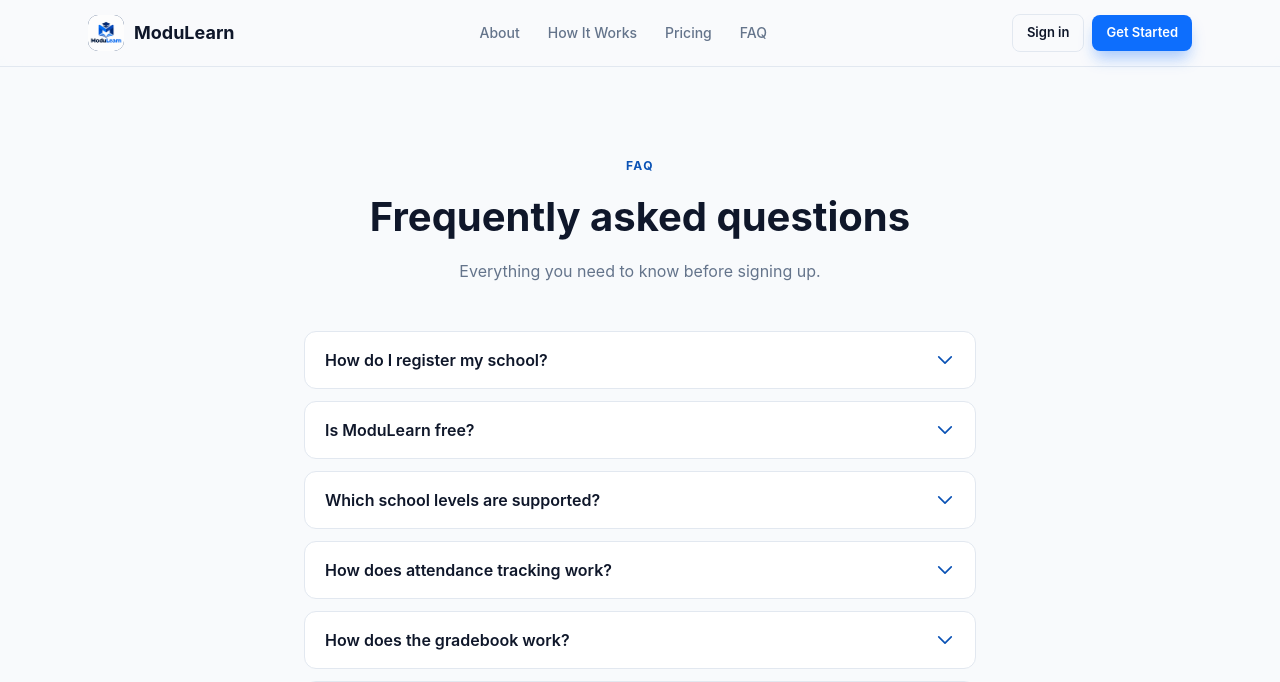
Test: Landing page › expands an FAQ answer on click
(page scrolled)
Click the button "How do I register my school?".
click(436, 360)  # box [305, 332, 975, 388]
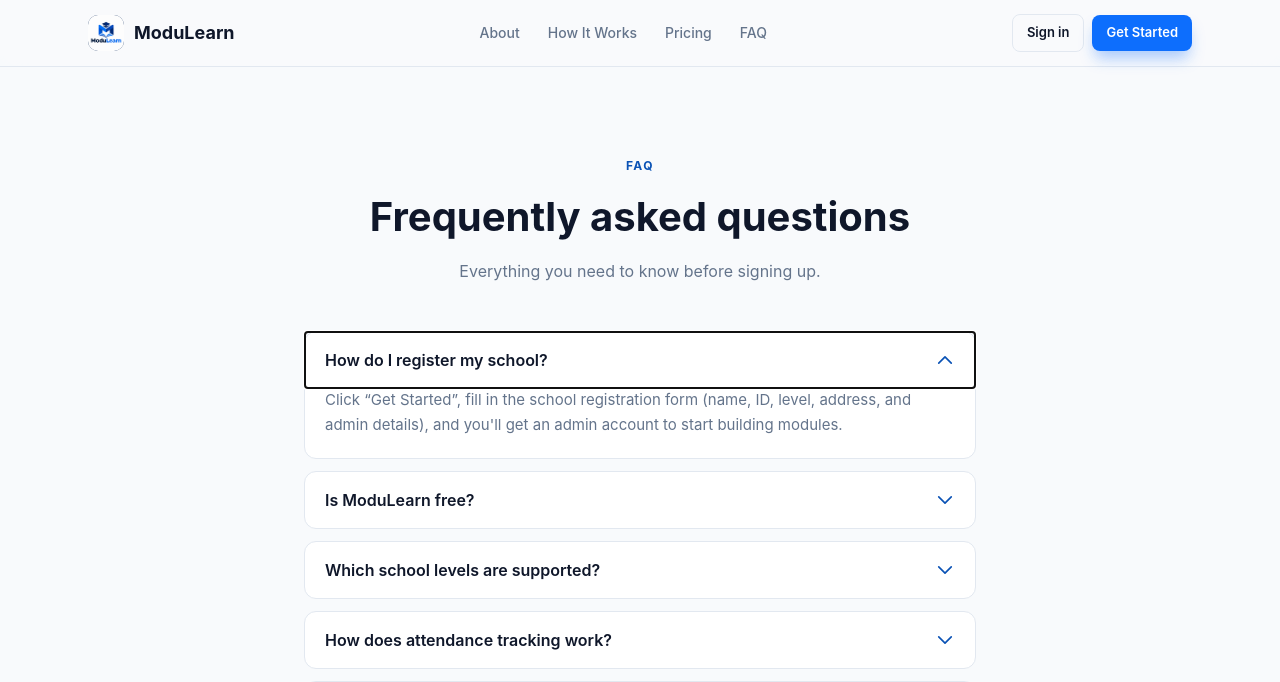
Expected: the button "How do I register my school?" is expanded, [305, 332, 975, 388]
Expected: the text "fill in the school registration form" is shown, [325, 390, 911, 434]
